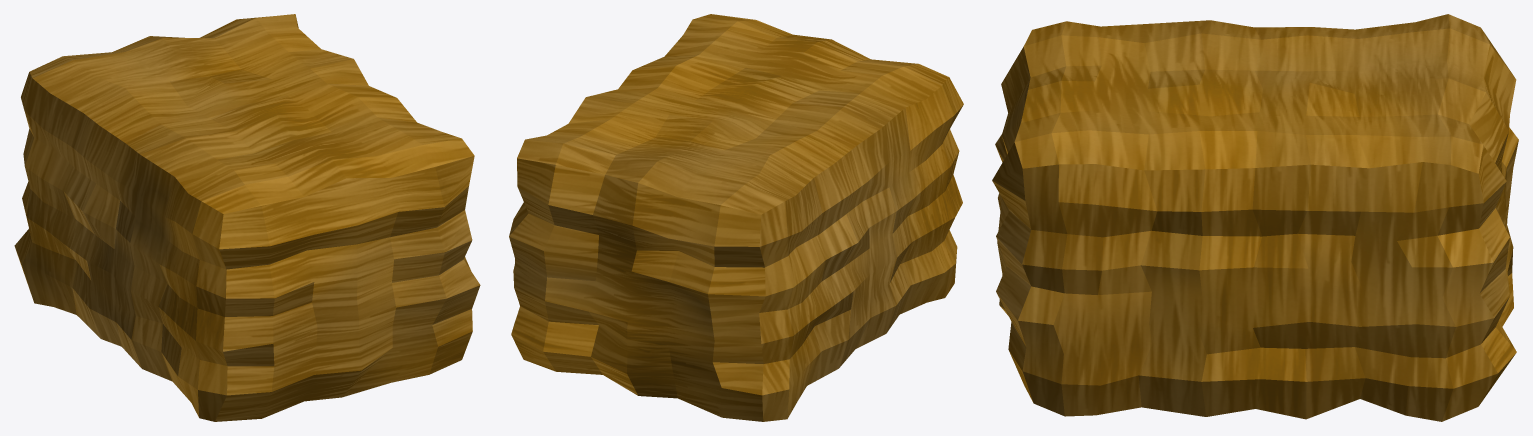
The model's file is haystack rec.obj.
The picture shows the model from 3 angles, left to right: view 1: azimuth 30°, elevation 25°; view 2: azimuth 150°, elevation 25°; view 3: azimuth 270°, elevation 25°; orthographic projection. The views are drawn at different scales.
Visible parts, largest first — view 1: Cube.172; view 2: Cube.172; view 3: Cube.172.
Boxes of the visible parts, left/top/right/bottom form: Cube.172: left=14, top=14, right=480, bottom=421; Cube.172: left=509, top=14, right=963, bottom=421; Cube.172: left=992, top=14, right=1518, bottom=421.
Bounding box in the file's own units: 1.98 × 1.58 × 2.71.
1 material, 1 textured.
